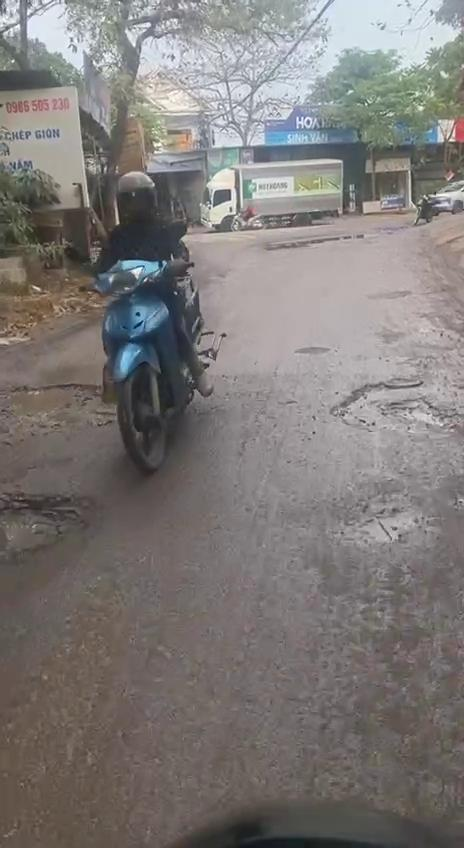pothole: (0, 484, 102, 570), (337, 378, 457, 440), (0, 377, 109, 442), (343, 500, 430, 548)
